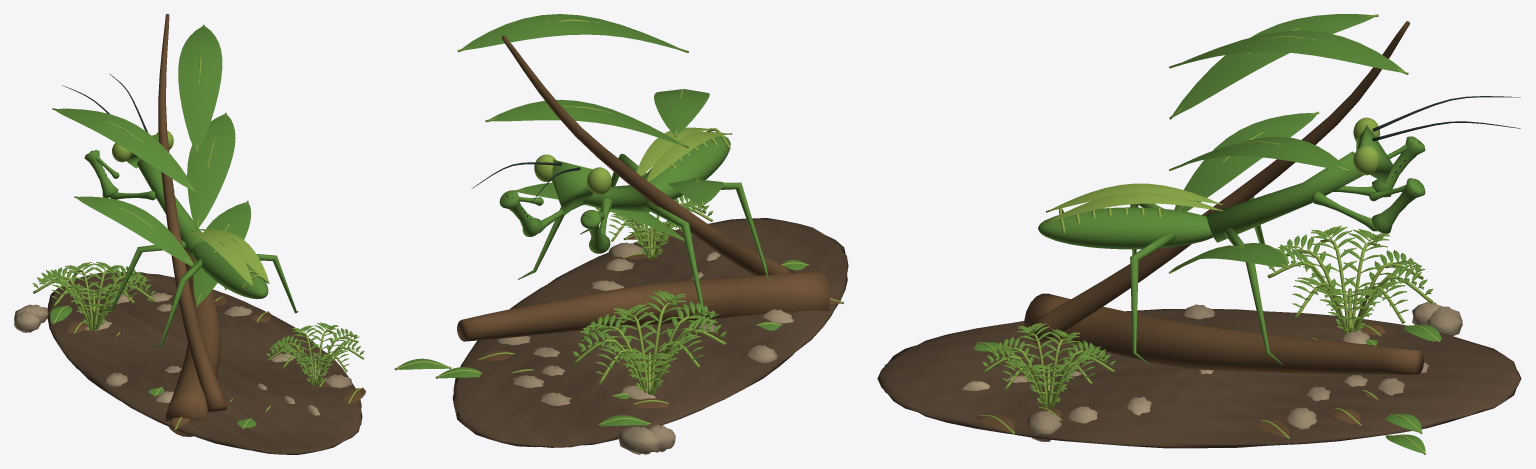
The picture shows the model from 3 angles, left to right: view 1: azimuth 30°, elevation 25°; view 2: azimuth 150°, elevation 25°; view 3: azimuth 270°, elevation 25°; orthographic projection. The views are drawn at different scales.
Parts seen in each view (by area): view 1: B06_SPEC_Substrate_export, B06_SPEC_Leaf jade_export, B06_SPEC_Bark_export, B06_SPEC_Leaf new growth_export, B06_SPEC_Matrix sandstone_export; view 2: B06_SPEC_Substrate_export, B06_SPEC_Leaf jade_export, B06_SPEC_Bark_export, B06_SPEC_Leaf new growth_export, B06_SPEC_Matrix sandstone_export; view 3: B06_SPEC_Substrate_export, B06_SPEC_Leaf jade_export, B06_SPEC_Bark_export, B06_SPEC_Leaf new growth_export, B06_SPEC_Matrix sandstone_export, B06_SPEC_Chitin_export.
Boxes of the visible parts, x1,y1,x2,y2 form: B06_SPEC_Substrate_export: (47, 272, 362, 454); B06_SPEC_Leaf jade_export: (33, 26, 363, 428); B06_SPEC_Bark_export: (68, 14, 365, 436); B06_SPEC_Leaf new growth_export: (32, 24, 364, 430); B06_SPEC_Matrix sandstone_export: (14, 292, 352, 415); B06_SPEC_Substrate_export: (452, 218, 848, 447); B06_SPEC_Leaf jade_export: (396, 14, 806, 426); B06_SPEC_Bark_export: (457, 35, 841, 408); B06_SPEC_Leaf new growth_export: (394, 19, 843, 424); B06_SPEC_Matrix sandstone_export: (495, 242, 793, 454); B06_SPEC_Substrate_export: (877, 309, 1521, 448); B06_SPEC_Leaf jade_export: (974, 14, 1441, 453); B06_SPEC_Bark_export: (976, 21, 1423, 437); B06_SPEC_Leaf new growth_export: (976, 14, 1439, 454); B06_SPEC_Matrix sandstone_export: (962, 301, 1462, 441); B06_SPEC_Chitin_export: (1372, 96, 1520, 181).
Bounding box in the file's own units: 1.19 × 1.49 × 2.16.
